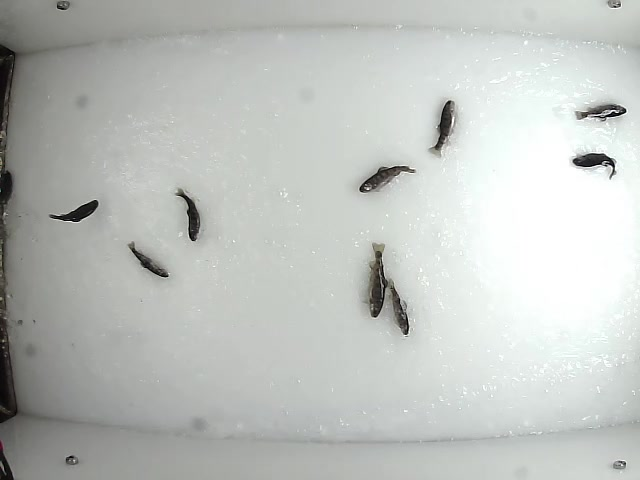fish: (356, 163, 417, 195), (365, 239, 388, 321), (126, 240, 172, 280), (427, 98, 457, 159), (383, 274, 412, 337), (172, 186, 202, 243), (570, 150, 619, 181), (46, 197, 100, 224), (572, 102, 628, 122)
